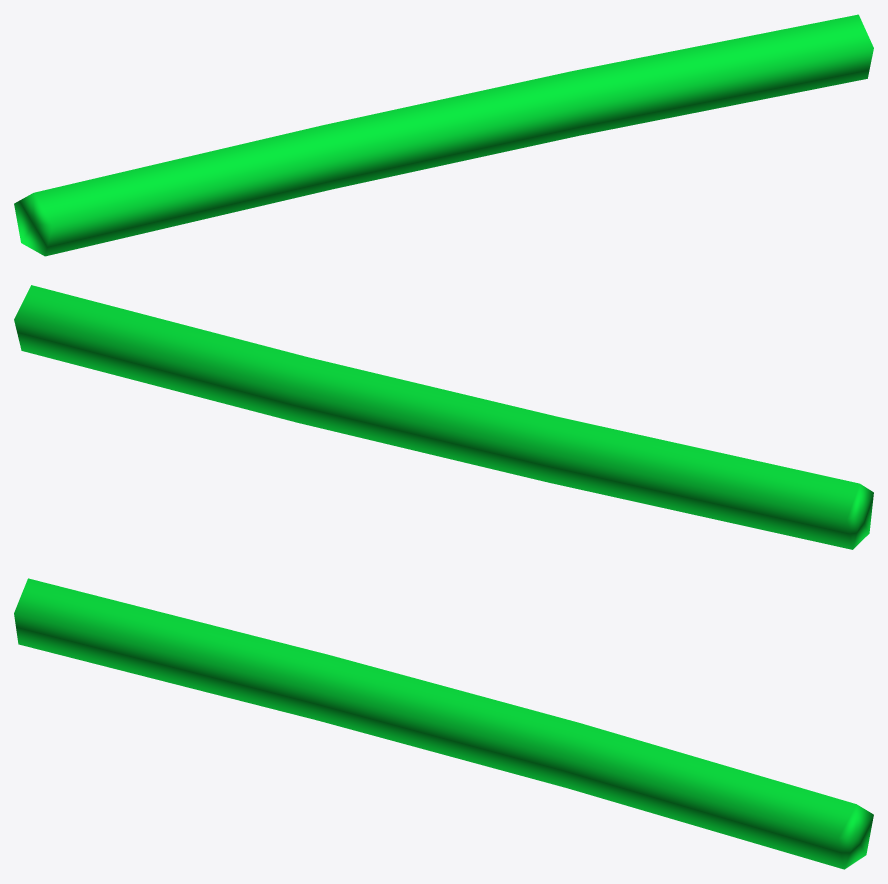
The model's file is Pipe_Turn_D_Int.fbx.
3 views of the same model, one above another, from view 1: azimuth 30°, elevation 25°; view 2: azimuth 150°, elevation 25°; view 3: azimuth 330°, elevation 25° (orthographic). The views are drawn at different scales.
Visible parts, largest first — view 1: Pipe_Turn_D_Int; view 2: Pipe_Turn_D_Int; view 3: Pipe_Turn_D_Int.
Part boxes in pixels (x1,y1,x2,y2): Pipe_Turn_D_Int: [14, 14, 873, 256]; Pipe_Turn_D_Int: [14, 285, 873, 549]; Pipe_Turn_D_Int: [14, 578, 873, 869].
Bounding box in the file's own units: 3.08 × 0.2511 × 0.2901.
